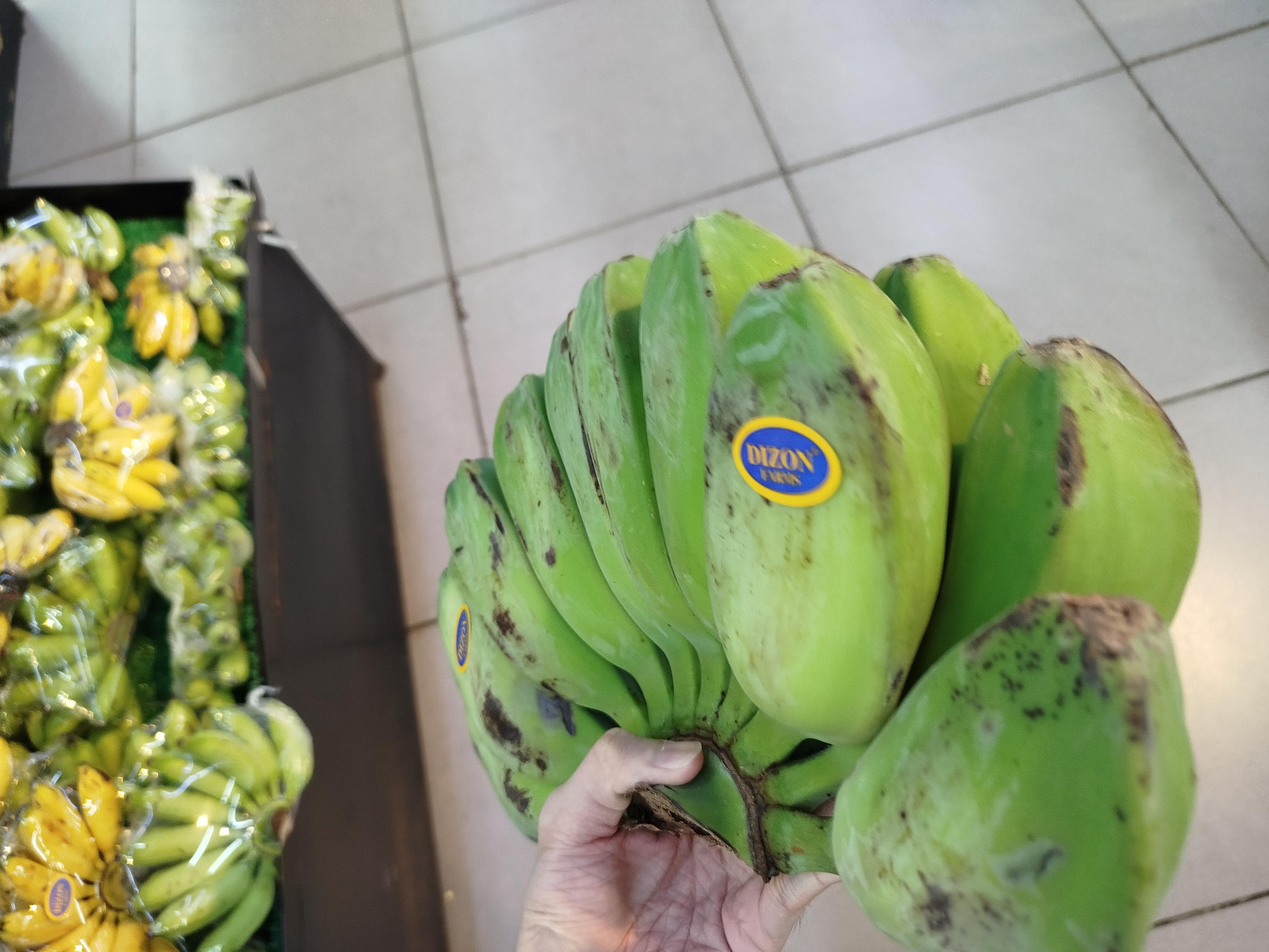underripe: (438, 213, 1199, 952)
